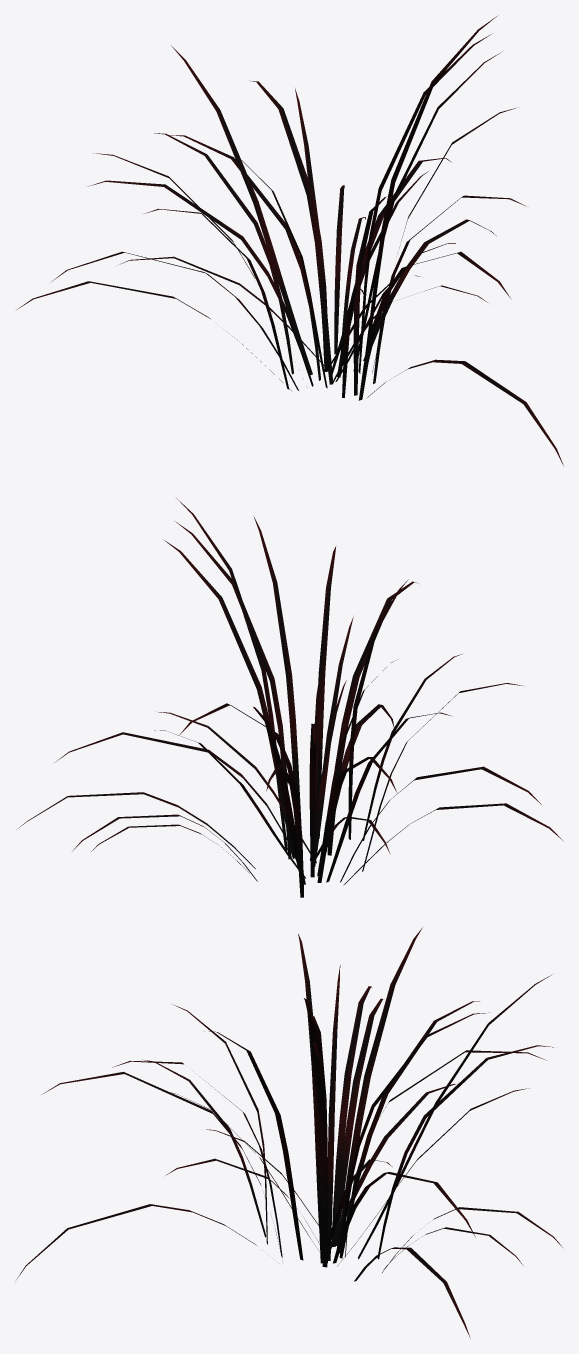
Rendered from Grass02C.fbx.
The picture shows the model from 3 angles, top to bottom: view 1: azimuth 30°, elevation 25°; view 2: azimuth 150°, elevation 25°; view 3: azimuth 270°, elevation 25°; orthographic projection. The views are drawn at different scales.
Visible parts, largest first — view 1: Grass02C; view 2: Grass02C; view 3: Grass02C.
Boxes of the visible parts, bbox=[...] form: Grass02C: bbox=[17, 15, 563, 465]; Grass02C: bbox=[16, 498, 563, 897]; Grass02C: bbox=[16, 927, 564, 1337].
Size of the model in its own units: 2.22 by 1.39 by 2.03.
